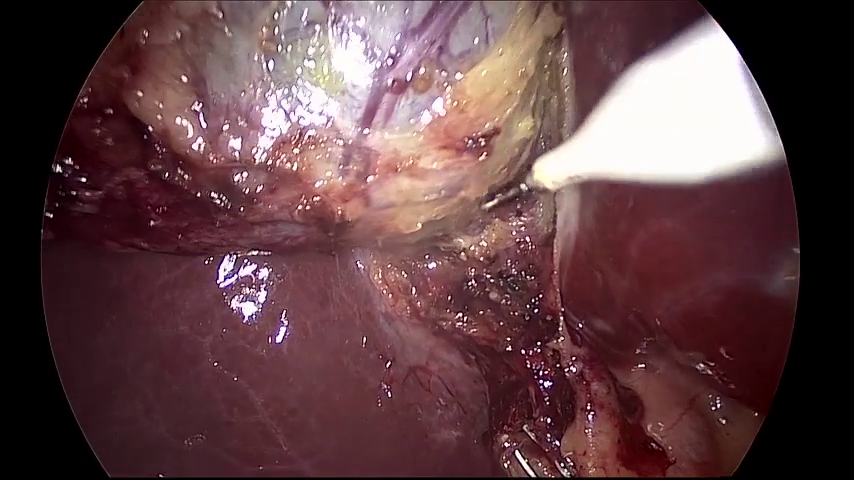lhook: (481, 18, 786, 210)
